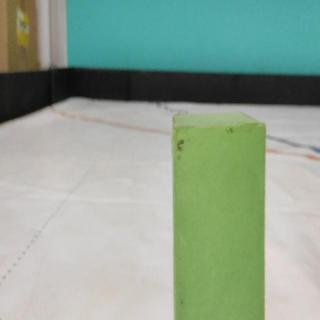greenbox: (173, 113, 267, 320)
